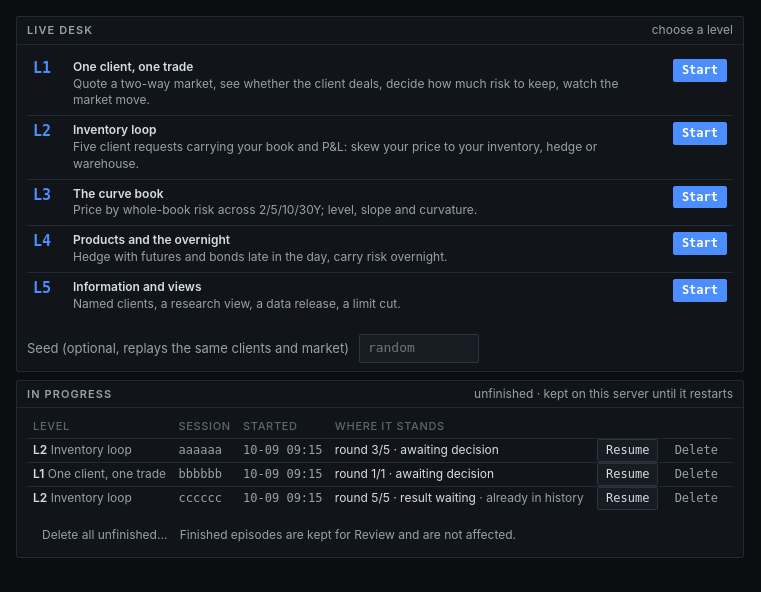
Test: deleting unfinished Live Desk sessions from the level menu › Delete all also asks first, and says finished episodes are untouched
Click the button "Delete all unfinished…".
click(105, 536)  # box [33, 524, 176, 547]
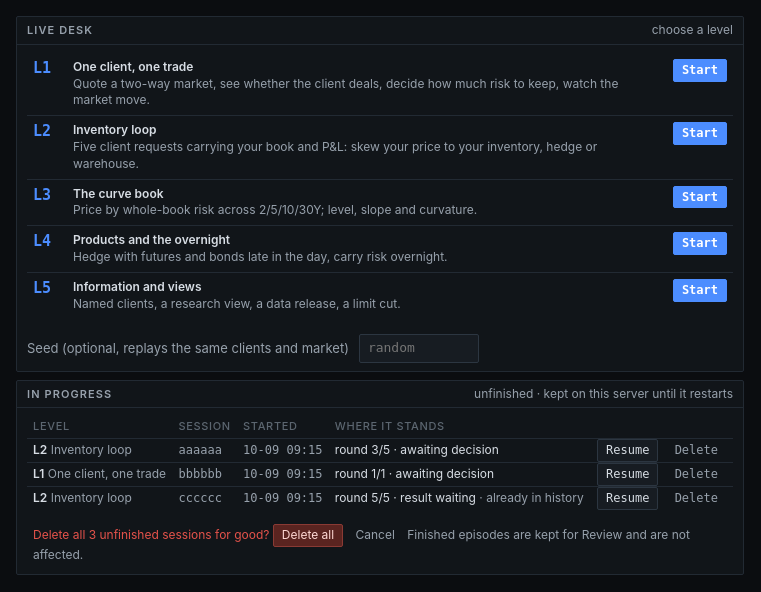
Check: the text "Finished episodes are kept for Review and are not affected." is shown, box [33, 527, 690, 562]
Check: the text "Delete all 3 unfinished sessions for good?" is shown, box [33, 527, 270, 542]
Click the button "Delete all".
click(308, 536)  # box [273, 524, 343, 547]
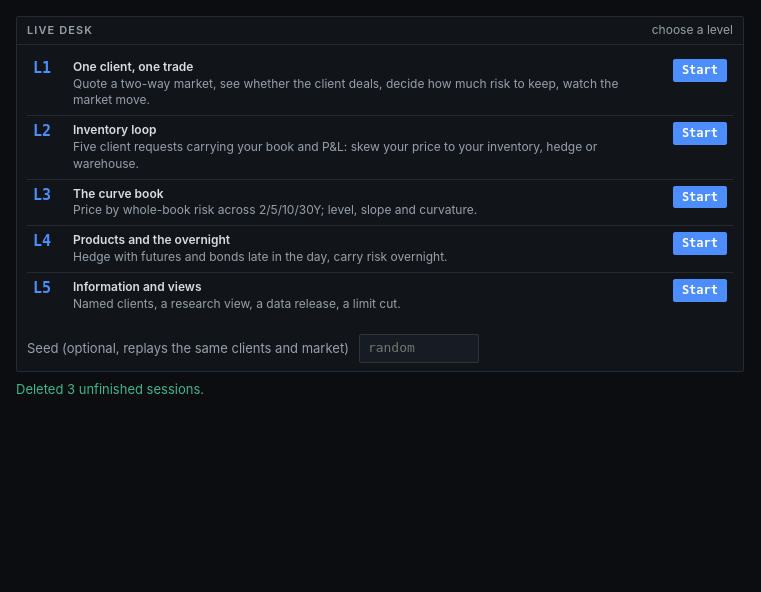
Check: the message reads "Deleted 3 unfinished sessions.", box [16, 380, 204, 396]
Check: the heading "IN PROGRESS" is gone
